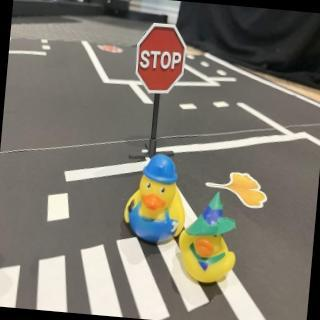duck_regular: (177, 190, 242, 288)
duck_specialty: (123, 153, 193, 249)
road_crosswalk: (1, 208, 220, 320)
sign_stop: (134, 23, 190, 99)
